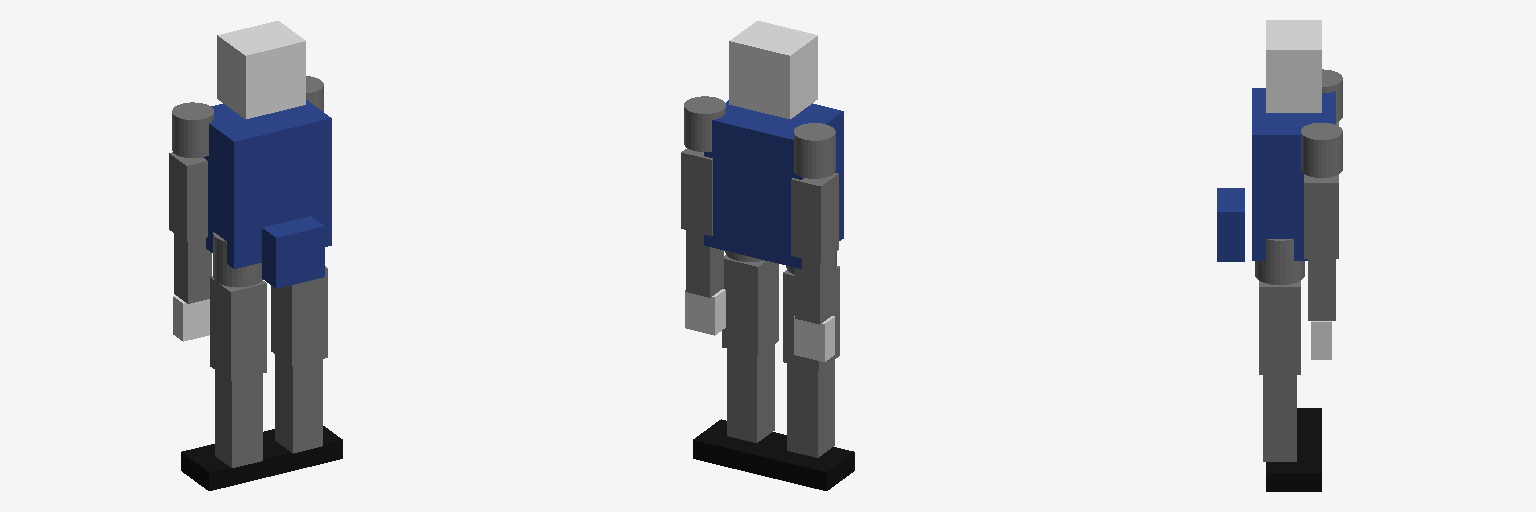
robot.urdf — huno:
<?xml version="1.0"?>
<robot name="huno">
  <!-- Materials -->
  <material name="black">
    <color rgba="0.1 0.1 0.1 1"/>
  </material>
  <material name="gray">
    <color rgba="0.5 0.5 0.5 1"/>
  </material>
  <material name="blue">
    <color rgba="0.2 0.3 0.6 1"/>
  </material>
  <material name="white">
    <color rgba="0.9 0.9 0.9 1"/>
  </material>

  <!-- Base Link -->
  <link name="base_link">
    <visual>
      <origin xyz="0 0 0" rpy="0 0 0"/>
      <geometry>
        <mesh filename="huno_meshes/torso.stl"/>
      </geometry>
      <material name="blue"/>
    </visual>
    <collision>
      <origin xyz="0 0 0" rpy="0 0 0"/>
      <geometry>
        <mesh filename="huno_meshes/torso.stl"/>
      </geometry>
    </collision>
    <inertial>
      <mass value="0.5"/>
      <inertia ixx="0.0005" ixy="0" ixz="0" iyy="0.0007" iyz="0" izz="0.0004"/>
    </inertial>
  </link>

  <!-- ========== HEAD ========== -->
  <!-- Joint 12: Head -->
  <joint name="head_joint" type="revolute">
    <parent link="base_link"/>
    <child link="head_link"/>
    <origin xyz="0 0 0.06" rpy="0 0 0"/>
    <axis xyz="0 0 1"/>
    <limit lower="-1.57" upper="1.57" effort="1.5" velocity="5.0"/>
  </joint>

  <link name="head_link">
    <visual>
      <origin xyz="0 0 0.025" rpy="0 0 0"/>
      <geometry>
        <mesh filename="huno_meshes/head.stl"/>
      </geometry>
      <material name="white"/>
    </visual>
    <collision>
      <origin xyz="0 0 0.025" rpy="0 0 0"/>
      <geometry>
        <mesh filename="huno_meshes/head.stl"/>
      </geometry>
    </collision>
    <inertial>
      <mass value="0.15"/>
      <inertia ixx="0.0001" ixy="0" ixz="0" iyy="0.0001" iyz="0" izz="0.0001"/>
    </inertial>
  </link>

  <!-- ========== RIGHT ARM (IDs: 10, 11, 13, 14) ========== -->
  <!-- Joint 11: Right Shoulder Pitch -->
  <joint name="r_shoulder_pitch" type="revolute">
    <parent link="base_link"/>
    <child link="r_shoulder_pitch_link"/>
    <origin xyz="0.045 0.02 0.04" rpy="0 0 0"/>
    <axis xyz="0 1 0"/>
    <limit lower="-2.0" upper="2.0" effort="1.5" velocity="5.0"/>
  </joint>

  <link name="r_shoulder_pitch_link">
    <visual>
      <origin xyz="0 0 0" rpy="0 0 0"/>
      <geometry>
        <mesh filename="huno_meshes/shoulder_joint.stl"/>
      </geometry>
      <material name="gray"/>
    </visual>
    <collision>
      <origin xyz="0 0 0" rpy="0 0 0"/>
      <geometry>
        <mesh filename="huno_meshes/shoulder_joint.stl"/>
      </geometry>
    </collision>
    <inertial>
      <mass value="0.08"/>
      <inertia ixx="0.00001" ixy="0" ixz="0" iyy="0.00001" iyz="0" izz="0.00001"/>
    </inertial>
  </link>

  <!-- Joint 10: Right Shoulder Roll -->
  <joint name="r_shoulder_roll" type="revolute">
    <parent link="r_shoulder_pitch_link"/>
    <child link="r_upper_arm_link"/>
    <origin xyz="0 0 -0.02" rpy="0 0 0"/>
    <axis xyz="1 0 0"/>
    <limit lower="-1.57" upper="1.57" effort="1.5" velocity="5.0"/>
  </joint>

  <link name="r_upper_arm_link">
    <visual>
      <origin xyz="0 0 -0.03" rpy="0 0 0"/>
      <geometry>
        <mesh filename="huno_meshes/upper_arm.stl"/>
      </geometry>
      <material name="gray"/>
    </visual>
    <collision>
      <origin xyz="0 0 -0.03" rpy="0 0 0"/>
      <geometry>
        <mesh filename="huno_meshes/upper_arm.stl"/>
      </geometry>
    </collision>
    <inertial>
      <mass value="0.1"/>
      <inertia ixx="0.00003" ixy="0" ixz="0" iyy="0.00003" iyz="0" izz="0.00001"/>
    </inertial>
  </link>

  <!-- Joint 13: Right Elbow -->
  <joint name="r_elbow" type="revolute">
    <parent link="r_upper_arm_link"/>
    <child link="r_forearm_link"/>
    <origin xyz="0 0 -0.06" rpy="0 0 0"/>
    <axis xyz="1 0 0"/>
    <limit lower="-2.0" upper="0.1" effort="1.5" velocity="5.0"/>
  </joint>

  <link name="r_forearm_link">
    <visual>
      <origin xyz="0 0 -0.025" rpy="0 0 0"/>
      <geometry>
        <mesh filename="huno_meshes/forearm.stl"/>
      </geometry>
      <material name="gray"/>
    </visual>
    <collision>
      <origin xyz="0 0 -0.025" rpy="0 0 0"/>
      <geometry>
        <mesh filename="huno_meshes/forearm.stl"/>
      </geometry>
    </collision>
    <inertial>
      <mass value="0.08"/>
      <inertia ixx="0.00002" ixy="0" ixz="0" iyy="0.00002" iyz="0" izz="0.00001"/>
    </inertial>
  </link>

  <!-- Joint 14: Right Hand -->
  <joint name="r_hand" type="revolute">
    <parent link="r_forearm_link"/>
    <child link="r_hand_link"/>
    <origin xyz="0 0 -0.05" rpy="0 0 0"/>
    <axis xyz="0 1 0"/>
    <limit lower="-0.5" upper="0.5" effort="1.0" velocity="5.0"/>
  </joint>

  <link name="r_hand_link">
    <visual>
      <origin xyz="0 0 -0.015" rpy="0 0 0"/>
      <geometry>
        <mesh filename="huno_meshes/hand.stl"/>
      </geometry>
      <material name="white"/>
    </visual>
    <collision>
      <origin xyz="0 0 -0.015" rpy="0 0 0"/>
      <geometry>
        <mesh filename="huno_meshes/hand.stl"/>
      </geometry>
    </collision>
    <inertial>
      <mass value="0.05"/>
      <inertia ixx="0.00001" ixy="0" ixz="0" iyy="0.00001" iyz="0" izz="0.00001"/>
    </inertial>
  </link>

  <!-- ========== LEFT ARM (IDs: 10, 11, 13, 14 mirrored) ========== -->
  <!-- Joint 11: Left Shoulder Pitch -->
  <joint name="l_shoulder_pitch" type="revolute">
    <parent link="base_link"/>
    <child link="l_shoulder_pitch_link"/>
    <origin xyz="-0.045 0.02 0.04" rpy="0 0 0"/>
    <axis xyz="0 1 0"/>
    <limit lower="-2.0" upper="2.0" effort="1.5" velocity="5.0"/>
  </joint>

  <link name="l_shoulder_pitch_link">
    <visual>
      <origin xyz="0 0 0" rpy="0 0 0"/>
      <geometry>
        <mesh filename="huno_meshes/shoulder_joint.stl"/>
      </geometry>
      <material name="gray"/>
    </visual>
    <collision>
      <origin xyz="0 0 0" rpy="0 0 0"/>
      <geometry>
        <mesh filename="huno_meshes/shoulder_joint.stl"/>
      </geometry>
    </collision>
    <inertial>
      <mass value="0.08"/>
      <inertia ixx="0.00001" ixy="0" ixz="0" iyy="0.00001" iyz="0" izz="0.00001"/>
    </inertial>
  </link>

  <!-- Joint 10: Left Shoulder Roll -->
  <joint name="l_shoulder_roll" type="revolute">
    <parent link="l_shoulder_pitch_link"/>
    <child link="l_upper_arm_link"/>
    <origin xyz="0 0 -0.02" rpy="0 0 0"/>
    <axis xyz="1 0 0"/>
    <limit lower="-1.57" upper="1.57" effort="1.5" velocity="5.0"/>
  </joint>

  <link name="l_upper_arm_link">
    <visual>
      <origin xyz="0 0 -0.03" rpy="0 0 0"/>
      <geometry>
        <mesh filename="huno_meshes/upper_arm.stl"/>
      </geometry>
      <material name="gray"/>
    </visual>
    <collision>
      <origin xyz="0 0 -0.03" rpy="0 0 0"/>
      <geometry>
        <mesh filename="huno_meshes/upper_arm.stl"/>
      </geometry>
    </collision>
    <inertial>
      <mass value="0.1"/>
      <inertia ixx="0.00003" ixy="0" ixz="0" iyy="0.00003" iyz="0" izz="0.00001"/>
    </inertial>
  </link>

  <!-- Joint 13: Left Elbow -->
  <joint name="l_elbow" type="revolute">
    <parent link="l_upper_arm_link"/>
    <child link="l_forearm_link"/>
    <origin xyz="0 0 -0.06" rpy="0 0 0"/>
    <axis xyz="1 0 0"/>
    <limit lower="-2.0" upper="0.1" effort="1.5" velocity="5.0"/>
  </joint>

  <link name="l_forearm_link">
    <visual>
      <origin xyz="0 0 -0.025" rpy="0 0 0"/>
      <geometry>
        <mesh filename="huno_meshes/forearm.stl"/>
      </geometry>
      <material name="gray"/>
    </visual>
    <collision>
      <origin xyz="0 0 -0.025" rpy="0 0 0"/>
      <geometry>
        <mesh filename="huno_meshes/forearm.stl"/>
      </geometry>
    </collision>
    <inertial>
      <mass value="0.08"/>
      <inertia ixx="0.00002" ixy="0" ixz="0" iyy="0.00002" iyz="0" izz="0.00001"/>
    </inertial>
  </link>

  <!-- Joint 14: Left Hand -->
  <joint name="l_hand" type="revolute">
    <parent link="l_forearm_link"/>
    <child link="l_hand_link"/>
    <origin xyz="0 0 -0.05" rpy="0 0 0"/>
    <axis xyz="0 1 0"/>
    <limit lower="-0.5" upper="0.5" effort="1.0" velocity="5.0"/>
  </joint>

  <link name="l_hand_link">
    <visual>
      <origin xyz="0 0 -0.015" rpy="0 0 0"/>
      <geometry>
        <mesh filename="huno_meshes/hand.stl"/>
      </geometry>
      <material name="white"/>
    </visual>
    <collision>
      <origin xyz="0 0 -0.015" rpy="0 0 0"/>
      <geometry>
        <mesh filename="huno_meshes/hand.stl"/>
      </geometry>
    </collision>
    <inertial>
      <mass value="0.05"/>
      <inertia ixx="0.00001" ixy="0" ixz="0" iyy="0.00001" iyz="0" izz="0.00001"/>
    </inertial>
  </link>

  <!-- ========== RIGHT LEG (IDs: 00, 01, 02, 03) ========== -->
  <!-- Joint 00: Right Hip Pitch -->
  <joint name="r_hip_pitch" type="revolute">
    <parent link="base_link"/>
    <child link="r_hip_pitch_link"/>
    <origin xyz="0.025 -0.01 -0.05" rpy="0 0 0"/>
    <axis xyz="0 1 0"/>
    <limit lower="-1.57" upper="1.57" effort="2.0" velocity="5.0"/>
  </joint>

  <link name="r_hip_pitch_link">
    <visual>
      <origin xyz="0 0 0" rpy="0 0 0"/>
      <geometry>
        <mesh filename="huno_meshes/hip_joint.stl"/>
      </geometry>
      <material name="gray"/>
    </visual>
    <collision>
      <origin xyz="0 0 0" rpy="0 0 0"/>
      <geometry>
        <mesh filename="huno_meshes/hip_joint.stl"/>
      </geometry>
    </collision>
    <inertial>
      <mass value="0.1"/>
      <inertia ixx="0.00002" ixy="0" ixz="0" iyy="0.00002" iyz="0" izz="0.00002"/>
    </inertial>
  </link>

  <!-- Joint 01: Right Hip Roll -->
  <joint name="r_hip_roll" type="revolute">
    <parent link="r_hip_pitch_link"/>
    <child link="r_thigh_link"/>
    <origin xyz="0 0 -0.02" rpy="0 0 0"/>
    <axis xyz="1 0 0"/>
    <limit lower="-0.8" upper="0.8" effort="2.0" velocity="5.0"/>
  </joint>

  <link name="r_thigh_link">
    <visual>
      <origin xyz="0 0 -0.035" rpy="0 0 0"/>
      <geometry>
        <mesh filename="huno_meshes/thigh.stl"/>
      </geometry>
      <material name="gray"/>
    </visual>
    <collision>
      <origin xyz="0 0 -0.035" rpy="0 0 0"/>
      <geometry>
        <mesh filename="huno_meshes/thigh.stl"/>
      </geometry>
    </collision>
    <inertial>
      <mass value="0.15"/>
      <inertia ixx="0.00007" ixy="0" ixz="0" iyy="0.00007" iyz="0" izz="0.00002"/>
    </inertial>
  </link>

  <!-- Joint 02: Right Knee -->
  <joint name="r_knee" type="revolute">
    <parent link="r_thigh_link"/>
    <child link="r_shin_link"/>
    <origin xyz="0 0 -0.07" rpy="0 0 0"/>
    <axis xyz="1 0 0"/>
    <limit lower="-0.1" upper="2.0" effort="2.0" velocity="5.0"/>
  </joint>

  <link name="r_shin_link">
    <visual>
      <origin xyz="0 0 -0.035" rpy="0 0 0"/>
      <geometry>
        <mesh filename="huno_meshes/shin.stl"/>
      </geometry>
      <material name="gray"/>
    </visual>
    <collision>
      <origin xyz="0 0 -0.035" rpy="0 0 0"/>
      <geometry>
        <mesh filename="huno_meshes/shin.stl"/>
      </geometry>
    </collision>
    <inertial>
      <mass value="0.12"/>
      <inertia ixx="0.00005" ixy="0" ixz="0" iyy="0.00005" iyz="0" izz="0.00001"/>
    </inertial>
  </link>

  <!-- Joint 03: Right Ankle -->
  <joint name="r_ankle" type="revolute">
    <parent link="r_shin_link"/>
    <child link="r_foot_link"/>
    <origin xyz="0 0 -0.07" rpy="0 0 0"/>
    <axis xyz="1 0 0"/>
    <limit lower="-0.5" upper="0.5" effort="1.5" velocity="5.0"/>
  </joint>

  <link name="r_foot_link">
    <visual>
      <origin xyz="0 0.01 -0.0075" rpy="0 0 0"/>
      <geometry>
        <mesh filename="huno_meshes/foot.stl"/>
      </geometry>
      <material name="black"/>
    </visual>
    <collision>
      <origin xyz="0 0.01 -0.0075" rpy="0 0 0"/>
      <geometry>
        <mesh filename="huno_meshes/foot.stl"/>
      </geometry>
    </collision>
    <inertial>
      <mass value="0.1"/>
      <inertia ixx="0.00002" ixy="0" ixz="0" iyy="0.00003" iyz="0" izz="0.00005"/>
    </inertial>
  </link>

  <!-- ========== LEFT LEG (IDs: 05, 06, 07, 08) ========== -->
  <!-- Joint 05: Left Hip Pitch -->
  <joint name="l_hip_pitch" type="revolute">
    <parent link="base_link"/>
    <child link="l_hip_pitch_link"/>
    <origin xyz="-0.025 -0.01 -0.05" rpy="0 0 0"/>
    <axis xyz="0 1 0"/>
    <limit lower="-1.57" upper="1.57" effort="2.0" velocity="5.0"/>
  </joint>

  <link name="l_hip_pitch_link">
    <visual>
      <origin xyz="0 0 0" rpy="0 0 0"/>
      <geometry>
        <mesh filename="huno_meshes/hip_joint.stl"/>
      </geometry>
      <material name="gray"/>
    </visual>
    <collision>
      <origin xyz="0 0 0" rpy="0 0 0"/>
      <geometry>
        <mesh filename="huno_meshes/hip_joint.stl"/>
      </geometry>
    </collision>
    <inertial>
      <mass value="0.1"/>
      <inertia ixx="0.00002" ixy="0" ixz="0" iyy="0.00002" iyz="0" izz="0.00002"/>
    </inertial>
  </link>

  <!-- Joint 06: Left Hip Roll -->
  <joint name="l_hip_roll" type="revolute">
    <parent link="l_hip_pitch_link"/>
    <child link="l_thigh_link"/>
    <origin xyz="0 0 -0.02" rpy="0 0 0"/>
    <axis xyz="1 0 0"/>
    <limit lower="-0.8" upper="0.8" effort="2.0" velocity="5.0"/>
  </joint>

  <link name="l_thigh_link">
    <visual>
      <origin xyz="0 0 -0.035" rpy="0 0 0"/>
      <geometry>
        <mesh filename="huno_meshes/thigh.stl"/>
      </geometry>
      <material name="gray"/>
    </visual>
    <collision>
      <origin xyz="0 0 -0.035" rpy="0 0 0"/>
      <geometry>
        <mesh filename="huno_meshes/thigh.stl"/>
      </geometry>
    </collision>
    <inertial>
      <mass value="0.15"/>
      <inertia ixx="0.00007" ixy="0" ixz="0" iyy="0.00007" iyz="0" izz="0.00002"/>
    </inertial>
  </link>

  <!-- Joint 07: Left Knee -->
  <joint name="l_knee" type="revolute">
    <parent link="l_thigh_link"/>
    <child link="l_shin_link"/>
    <origin xyz="0 0 -0.07" rpy="0 0 0"/>
    <axis xyz="1 0 0"/>
    <limit lower="-0.1" upper="2.0" effort="2.0" velocity="5.0"/>
  </joint>

  <link name="l_shin_link">
    <visual>
      <origin xyz="0 0 -0.035" rpy="0 0 0"/>
      <geometry>
        <mesh filename="huno_meshes/shin.stl"/>
      </geometry>
      <material name="gray"/>
    </visual>
    <collision>
      <origin xyz="0 0 -0.035" rpy="0 0 0"/>
      <geometry>
        <mesh filename="huno_meshes/shin.stl"/>
      </geometry>
    </collision>
    <inertial>
      <mass value="0.12"/>
      <inertia ixx="0.00005" ixy="0" ixz="0" iyy="0.00005" iyz="0" izz="0.00001"/>
    </inertial>
  </link>

  <!-- Joint 08: Left Ankle -->
  <joint name="l_ankle" type="revolute">
    <parent link="l_shin_link"/>
    <child link="l_foot_link"/>
    <origin xyz="0 0 -0.07" rpy="0 0 0"/>
    <axis xyz="1 0 0"/>
    <limit lower="-0.5" upper="0.5" effort="1.5" velocity="5.0"/>
  </joint>

  <link name="l_foot_link">
    <visual>
      <origin xyz="0 0.01 -0.0075" rpy="0 0 0"/>
      <geometry>
        <mesh filename="huno_meshes/foot.stl"/>
      </geometry>
      <material name="black"/>
    </visual>
    <collision>
      <origin xyz="0 0.01 -0.0075" rpy="0 0 0"/>
      <geometry>
        <mesh filename="huno_meshes/foot.stl"/>
      </geometry>
    </collision>
    <inertial>
      <mass value="0.1"/>
      <inertia ixx="0.00002" ixy="0" ixz="0" iyy="0.00003" iyz="0" izz="0.00005"/>
    </inertial>
  </link>

  <!-- ========== WAIST/TAIL (ID: 15) ========== -->
  <!-- Joint 15: Waist/Tail -->
  <joint name="waist_joint" type="revolute">
    <parent link="base_link"/>
    <child link="waist_link"/>
    <origin xyz="0 -0.035 -0.02" rpy="0 0 0"/>
    <axis xyz="0 0 1"/>
    <limit lower="-0.5" upper="0.5" effort="1.0" velocity="5.0"/>
  </joint>

  <link name="waist_link">
    <visual>
      <origin xyz="0 -0.01 -0.02" rpy="0 0 0"/>
      <geometry>
        <mesh filename="huno_meshes/waist.stl"/>
      </geometry>
      <material name="blue"/>
    </visual>
    <collision>
      <origin xyz="0 -0.01 -0.02" rpy="0 0 0"/>
      <geometry>
        <mesh filename="huno_meshes/waist.stl"/>
      </geometry>
    </collision>
    <inertial>
      <mass value="0.08"/>
      <inertia ixx="0.00001" ixy="0" ixz="0" iyy="0.00002" iyz="0" izz="0.00001"/>
    </inertial>
  </link>

</robot>

--- What the picture shows (computed from the rendered views, not written in the file) ---
The picture shows the robot from 3 angles, left to right: view 1: azimuth 30°, elevation 25°; view 2: azimuth 150°, elevation 25°; view 3: azimuth 270°, elevation 25°; orthographic projection.
Model huno with 19 links and 18 joints (18 revolute), rooted at base_link, posed every joint at zero.
Links seen in each view (by area): view 1: base_link, head_link, l_thigh_link, r_thigh_link, r_shin_link, l_shin_link, waist_link, l_upper_arm_link, l_foot_link, l_forearm_link, l_shoulder_pitch_link, r_foot_link (+2 smaller); view 2: base_link, head_link, r_thigh_link, l_shin_link, r_shin_link, l_upper_arm_link, l_foot_link, r_upper_arm_link, r_foot_link, l_forearm_link, l_shoulder_pitch_link, r_forearm_link (+4 smaller); view 3: base_link, head_link, r_thigh_link, r_shin_link, r_upper_arm_link, r_shoulder_pitch_link, r_foot_link, waist_link, r_forearm_link, r_hip_pitch_link, l_foot_link, r_hand_link (+1 smaller).
Boxes of the visible links, x1,y1,x2,y2 form: base_link: [203, 100, 331, 268]; head_link: [217, 21, 305, 119]; l_thigh_link: [210, 276, 266, 380]; r_thigh_link: [271, 266, 327, 365]; r_shin_link: [275, 355, 322, 453]; l_shin_link: [215, 370, 262, 467]; waist_link: [262, 216, 324, 288]; l_upper_arm_link: [169, 152, 207, 241]; l_foot_link: [181, 441, 281, 490]; l_forearm_link: [174, 234, 211, 303]; l_shoulder_pitch_link: [172, 102, 213, 157]; r_foot_link: [263, 426, 342, 475]; base_link: [704, 100, 843, 268]; head_link: [729, 21, 817, 118]; r_thigh_link: [722, 255, 778, 355]; l_shin_link: [787, 360, 834, 457]; r_shin_link: [727, 344, 774, 442]; l_upper_arm_link: [791, 173, 838, 262]; l_foot_link: [754, 434, 854, 490]; r_upper_arm_link: [681, 148, 712, 235]; r_foot_link: [693, 419, 780, 476]; l_forearm_link: [795, 254, 833, 324]; l_shoulder_pitch_link: [794, 123, 835, 178]; r_forearm_link: [686, 230, 723, 297]; base_link: [1252, 88, 1335, 260]; head_link: [1266, 20, 1321, 112]; r_thigh_link: [1259, 281, 1300, 374]; r_shin_link: [1263, 375, 1296, 461]; r_upper_arm_link: [1304, 174, 1338, 258]; r_shoulder_pitch_link: [1301, 123, 1342, 177]; r_foot_link: [1266, 439, 1321, 491]; waist_link: [1217, 188, 1244, 261]; r_forearm_link: [1308, 259, 1335, 320]; r_hip_pitch_link: [1255, 239, 1304, 284]; l_foot_link: [1297, 408, 1321, 442]; r_hand_link: [1311, 321, 1331, 359].
Bounding box of the posed robot: 0.12 × 0.09 × 0.335 m (x, y, z).
19 mesh visuals loaded from 11 distinct referenced files (11 binary STL).
